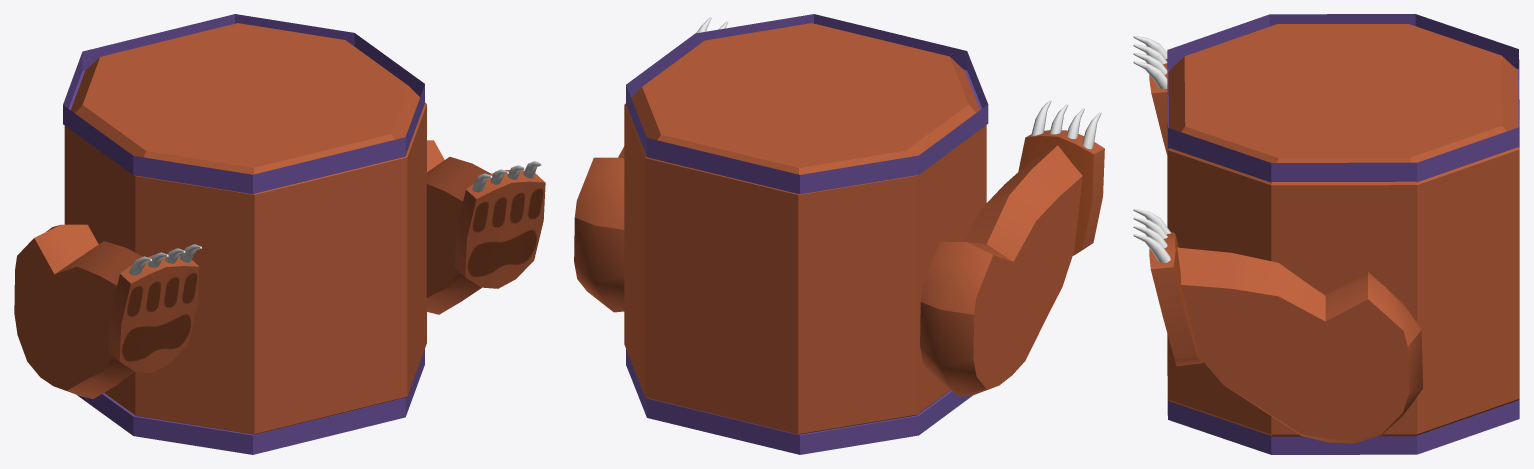
File: Medio.fbx
The picture shows the model from 3 angles, left to right: view 1: azimuth 30°, elevation 25°; view 2: azimuth 150°, elevation 25°; view 3: azimuth 270°, elevation 25°; orthographic projection. The views are drawn at different scales.
Parts seen in each view (by area): view 1: Circle.007, Cube.009, Circle.010, Cube.005, Cube.008, Circle.016, Cube.004, Circle.014, Circle.004; view 2: Circle.007, Cube.009, Circle.010, Circle.016, Cube.004, Cube.008, Circle.014; view 3: Circle.007, Cube.004, Circle.010, Circle.016, Cube.005, Circle.004, Circle.014, Cube.008.
Part boxes in pixels (box(x1,y1,x2,y2)): Circle.007: box(64, 23, 426, 434); Cube.009: box(14, 224, 142, 398); Circle.010: box(63, 14, 424, 193); Cube.005: box(454, 170, 545, 288); Cube.008: box(108, 254, 199, 373); Circle.016: box(76, 349, 424, 454); Cube.004: box(426, 140, 491, 314); Circle.014: box(129, 244, 201, 275); Circle.004: box(472, 161, 542, 192); Circle.007: box(624, 23, 986, 434); Cube.009: box(920, 145, 1082, 396); Circle.010: box(626, 14, 988, 194); Circle.016: box(626, 349, 972, 454); Cube.004: box(574, 146, 624, 312); Cube.008: box(1018, 130, 1104, 255); Circle.014: box(1031, 100, 1101, 149); Circle.007: box(1167, 24, 1519, 436); Cube.004: box(1177, 247, 1422, 443); Circle.010: box(1167, 14, 1519, 182); Circle.016: box(1167, 355, 1519, 454); Cube.005: box(1149, 232, 1202, 366); Circle.004: box(1133, 209, 1171, 262); Circle.014: box(1133, 36, 1167, 89); Cube.008: box(1149, 59, 1167, 154).
Size of the model in its own units: 374 by 239 by 284.
